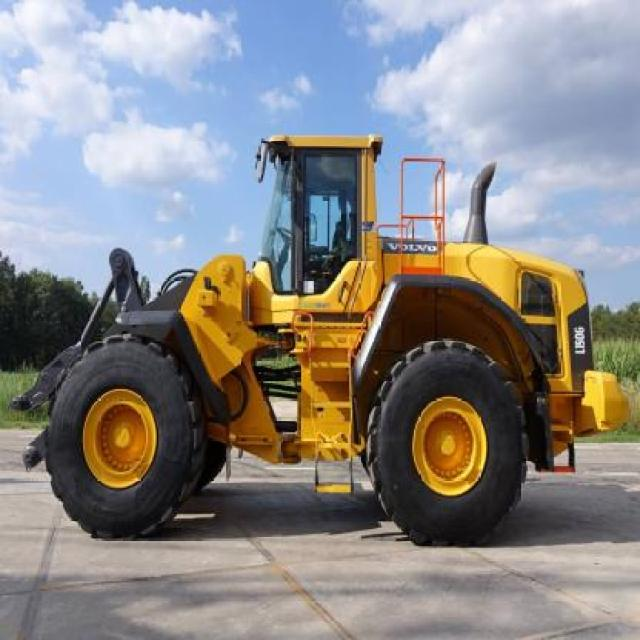buldozerpayloadergrader: (4, 107, 640, 558)
